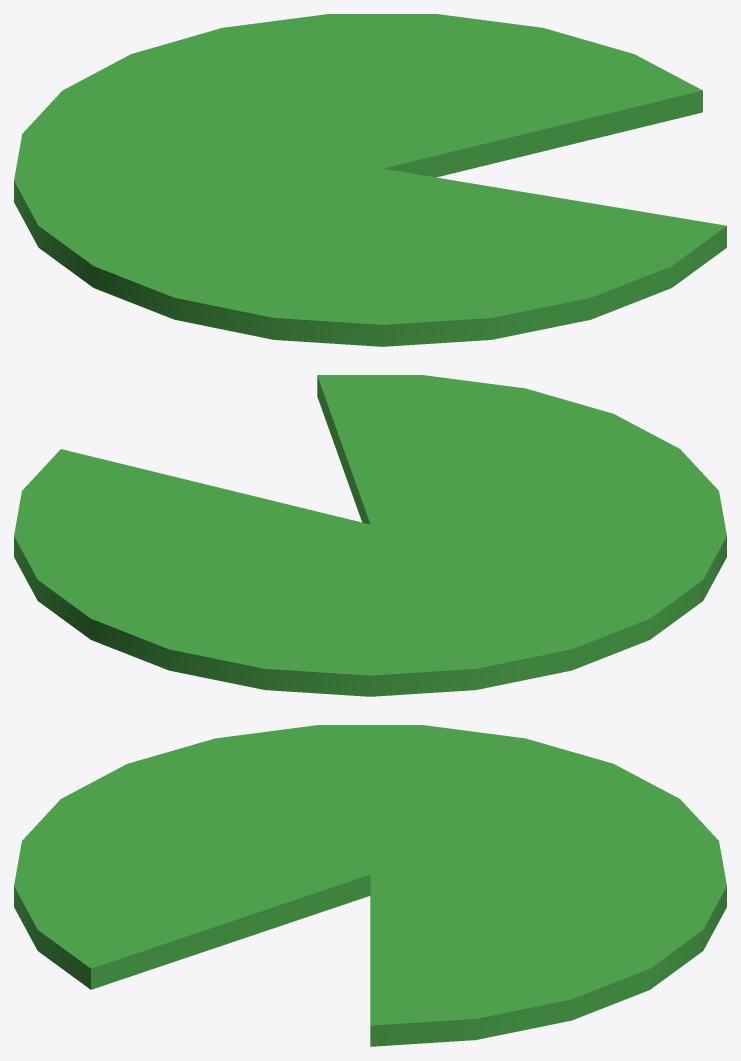
Rendered from Seerosenblatt.fbx.
3 views of the same model, one above another, from view 1: azimuth 30°, elevation 25°; view 2: azimuth 150°, elevation 25°; view 3: azimuth 270°, elevation 25° (orthographic). The views are drawn at different scales.
Visible parts, largest first — view 1: Zylinder; view 2: Zylinder; view 3: Zylinder.
Part boxes in pixels (<box>): Zylinder: <box>14,14,726,346</box>; Zylinder: <box>14,375,726,696</box>; Zylinder: <box>14,725,726,1046</box>.
Size of the model in its own units: 136 by 4.48 by 137.
